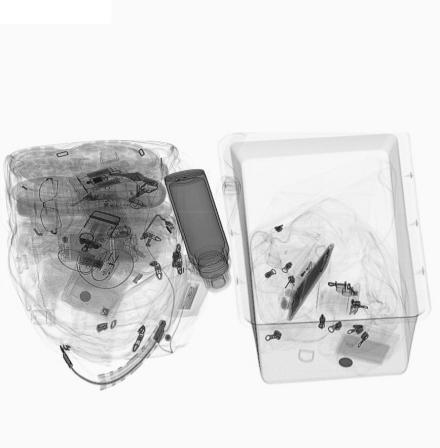Lighter: (290, 261, 316, 290)
